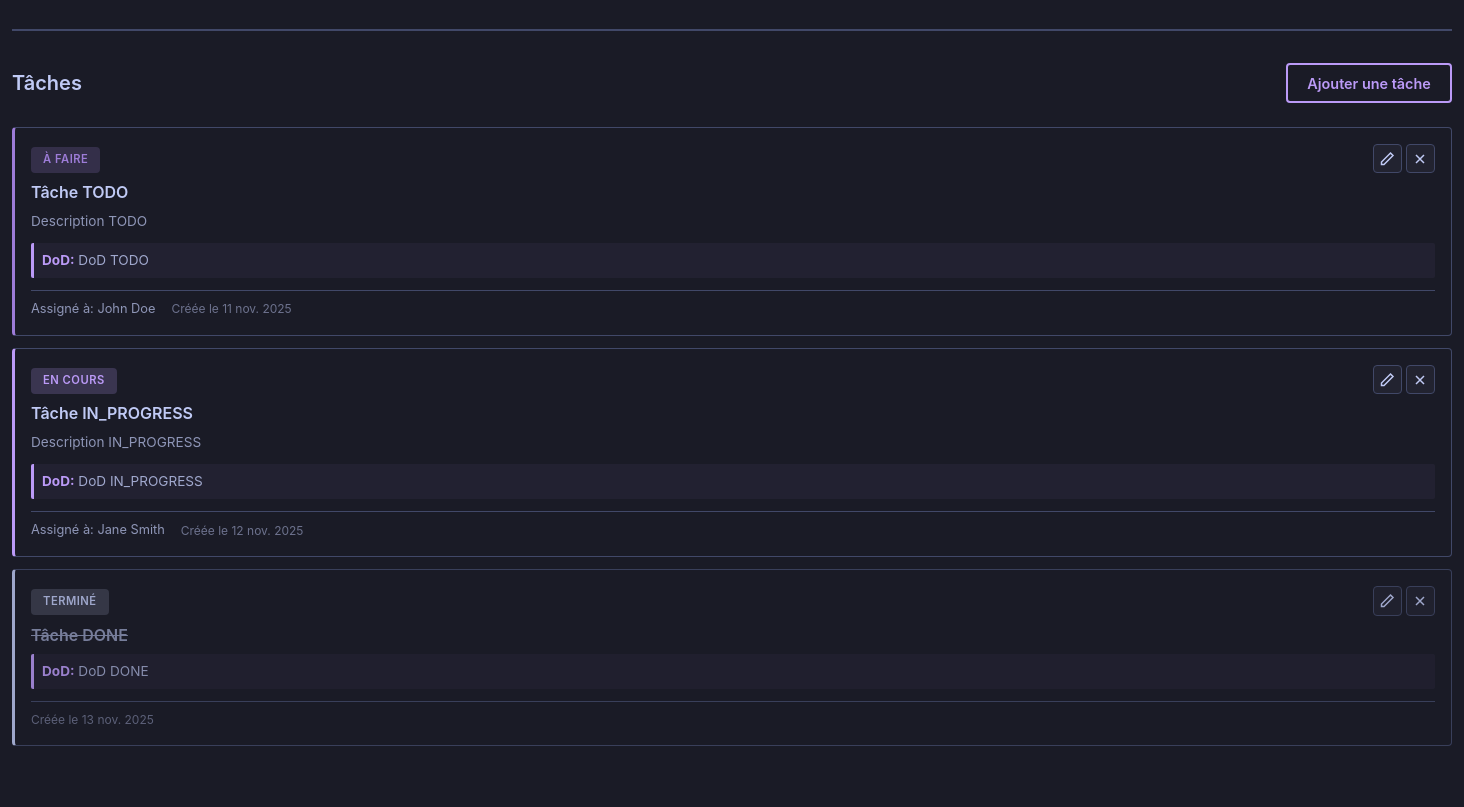
Test case: TaskDetails - Tests simples › devrait ouvrir le formulaire de création
Click the button with class "btn-toggle" at (1369, 83), box [1286,63,1452,103]
(page scrolled)
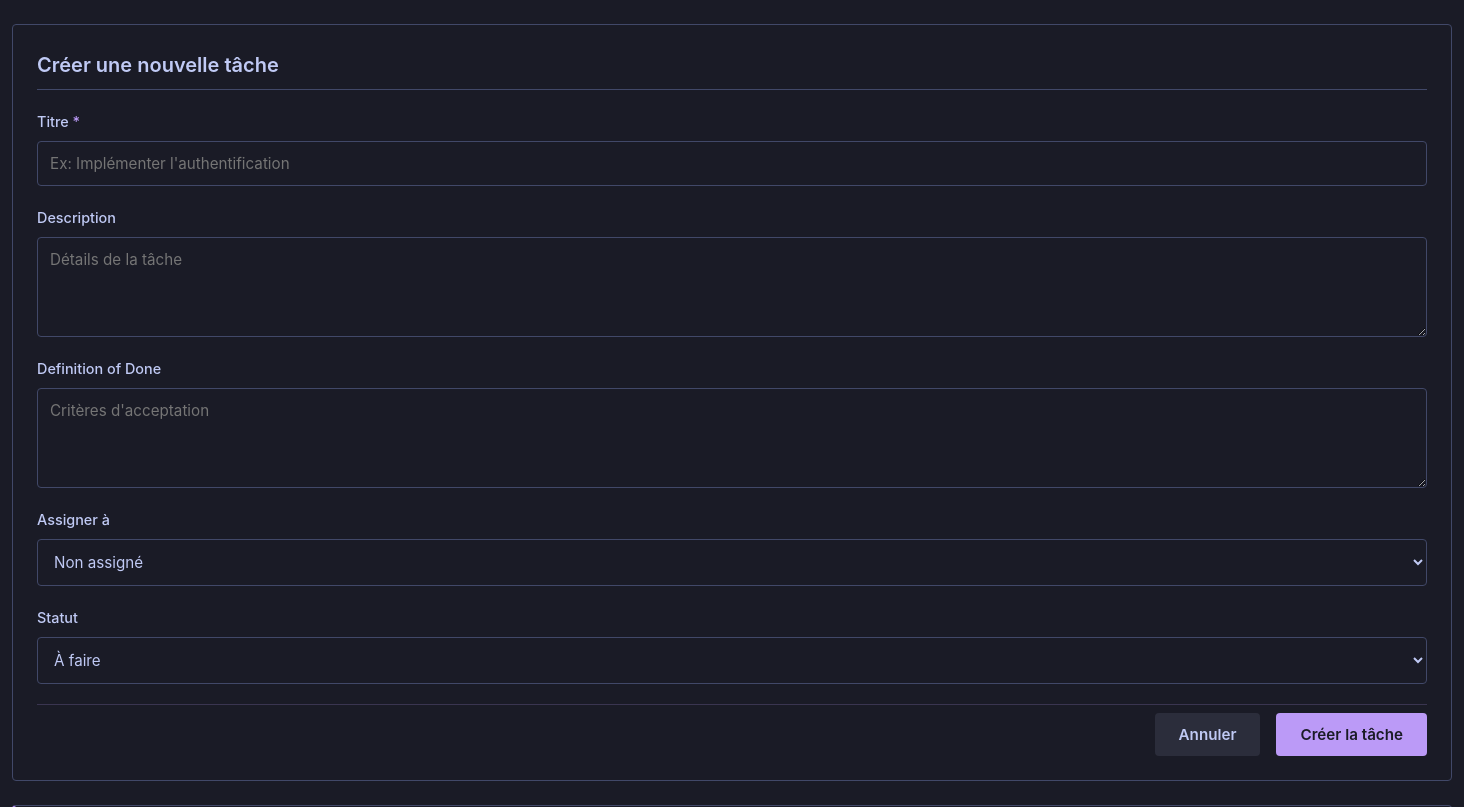
Result: the form is shown
